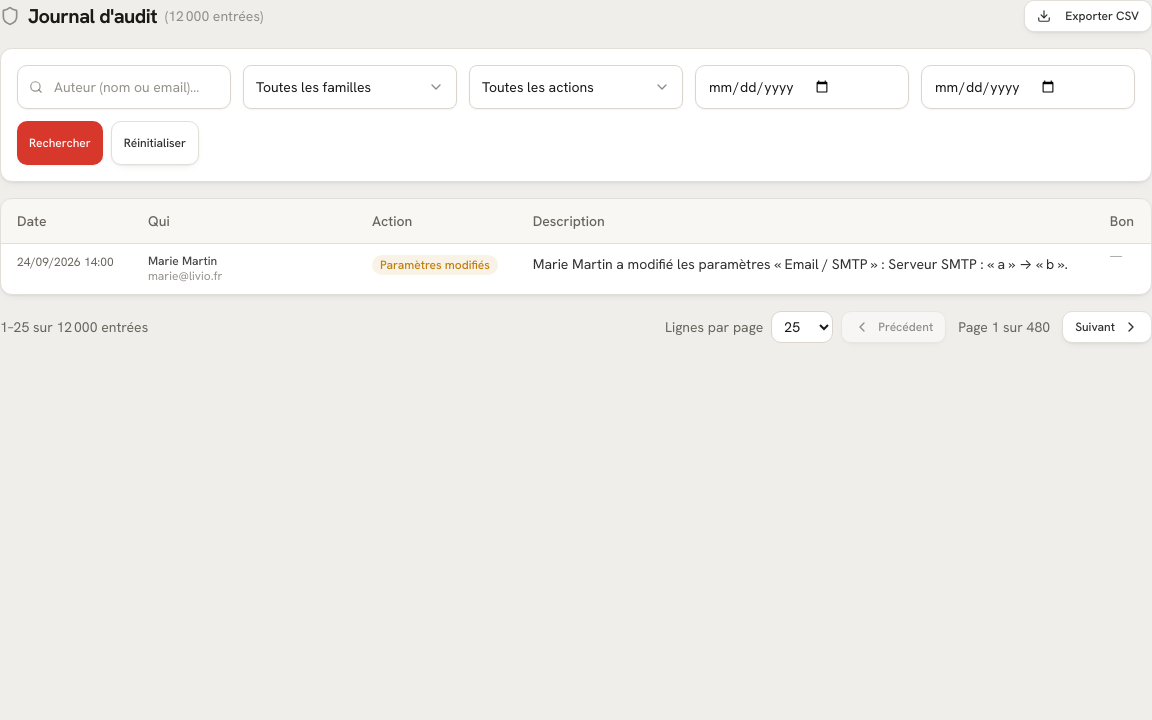
Test: AuditLogsPage › prévient avant l’export qu’il sera tronqué, et après qu’il l’a été
Expected: the table named "Journal d'audit" is shown, [1, 199, 1151, 294]
What coordinates should you click on to do the following:
click the button "Exporter CSV"
I would click on:
 (1088, 16)
Its box is [1024, 0, 1151, 32].
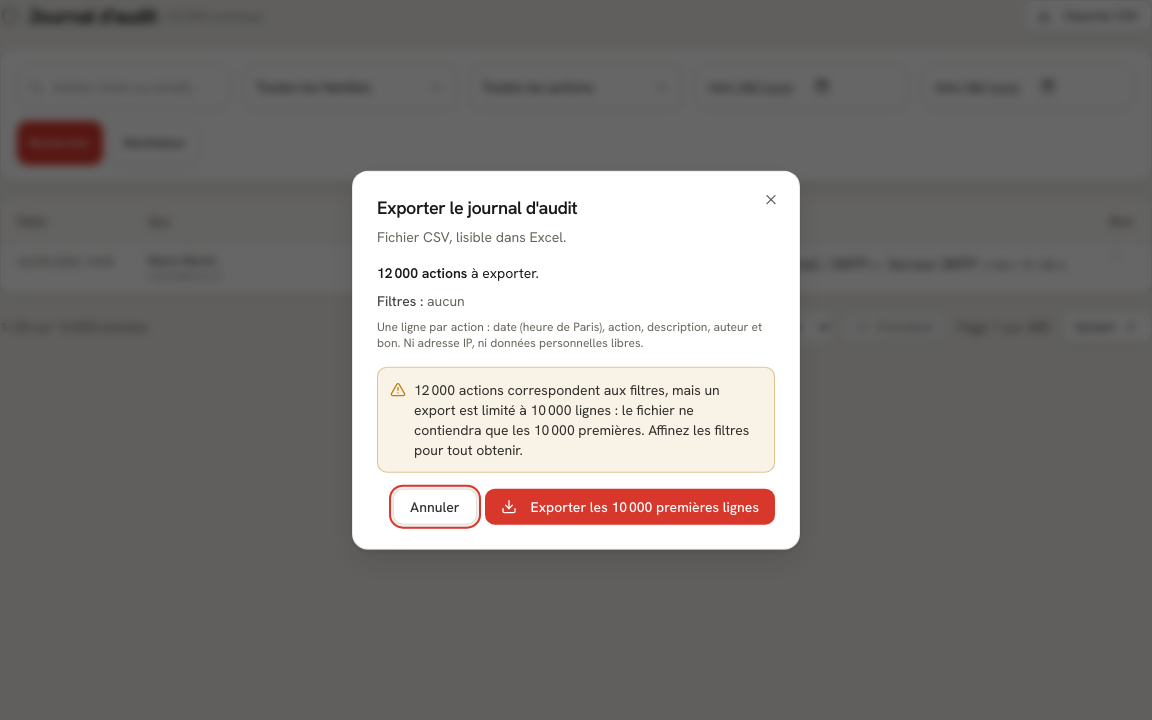
What coordinates should you click on to do the following:
click the button "Exporter les 10 000 premières lignes"
I would click on:
 (630, 506)
Its box is [484, 488, 775, 524].
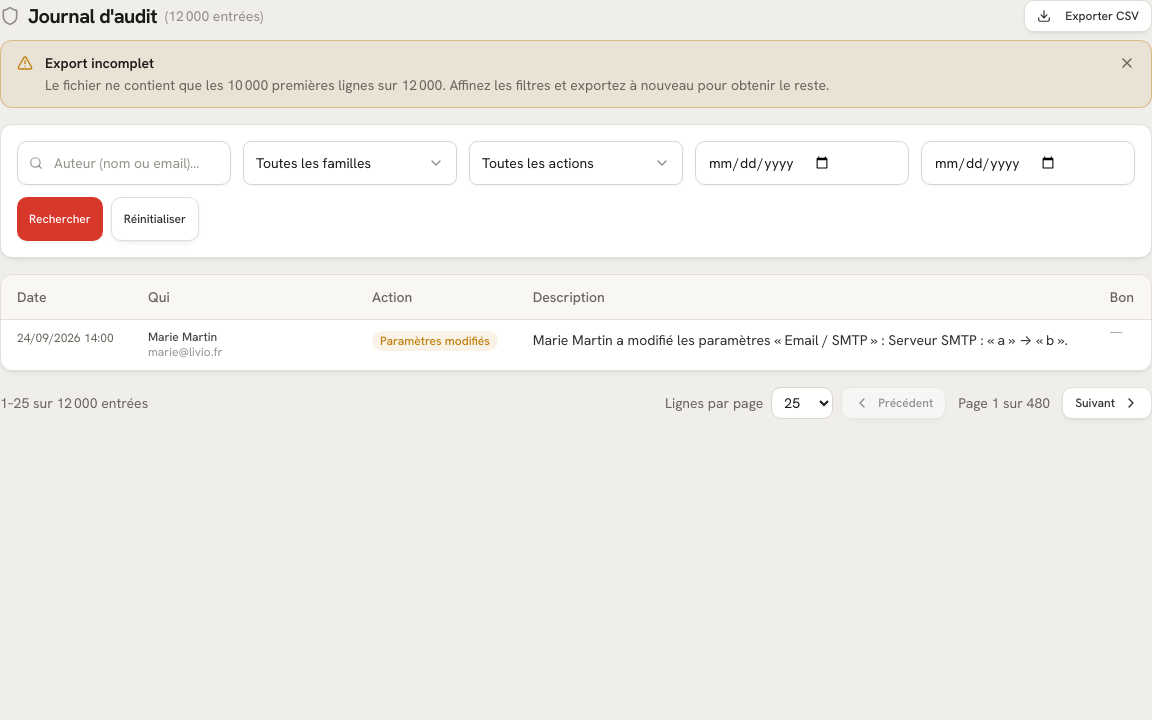
Now the text "Export incomplet" is shown, box [45, 54, 154, 72]
